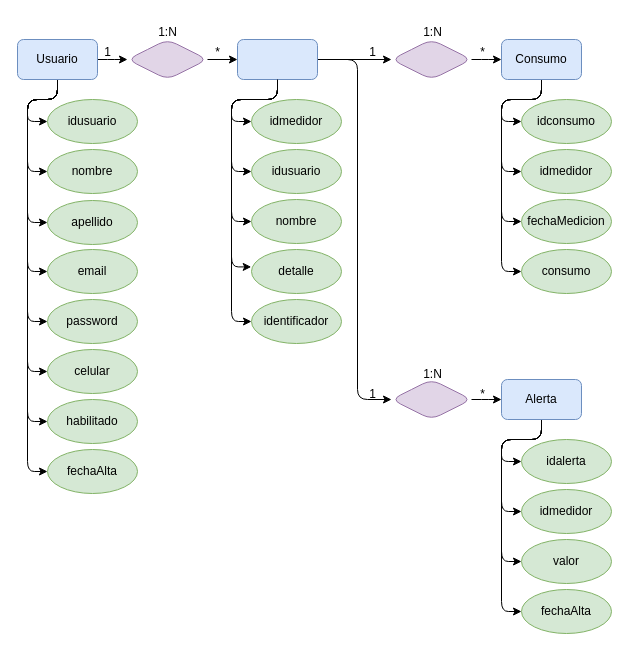
Some shapes in this 629 by 651 pixel diagram are drawn without their labels. The shapes that lost their labels are listed below. From the top down, each one's centre as x and y in pixels, then its label:
[167,59]: tiene
[277,59]: Medidor
[431,59]: registra
[431,399]: maneja
